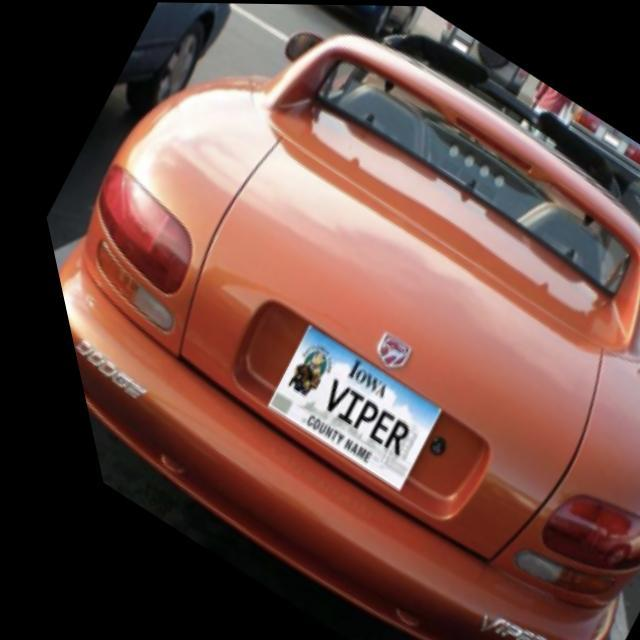license_plate: (233, 318, 440, 489)
